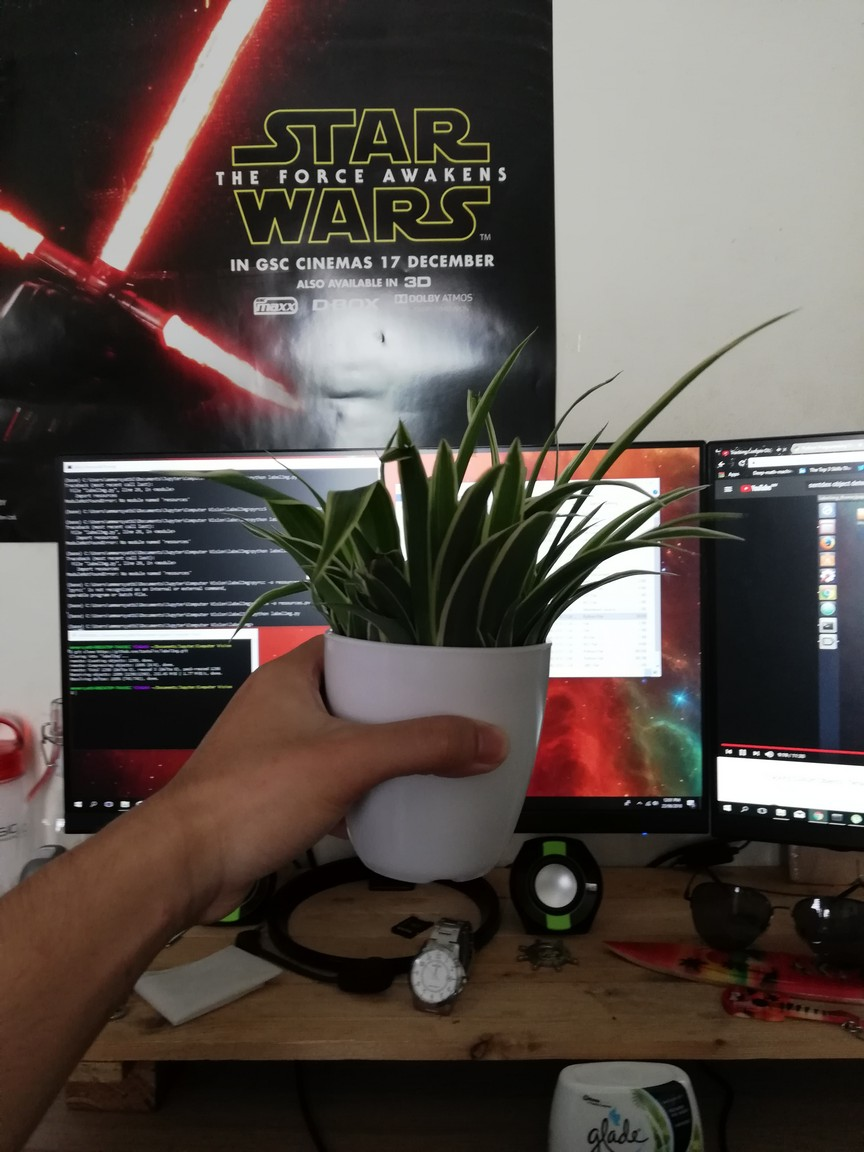daun: (626, 304, 804, 469), (463, 321, 542, 437), (145, 464, 280, 515), (313, 488, 368, 587), (259, 442, 324, 503), (230, 579, 296, 637), (554, 366, 624, 416), (574, 570, 688, 599), (564, 418, 616, 480), (465, 462, 510, 532), (565, 479, 663, 508), (220, 507, 286, 549), (429, 435, 461, 505), (593, 540, 698, 560), (657, 508, 751, 530), (659, 526, 752, 548), (660, 482, 718, 513), (507, 432, 524, 520), (569, 519, 609, 541), (394, 416, 418, 446), (584, 499, 607, 521), (267, 520, 287, 535)
